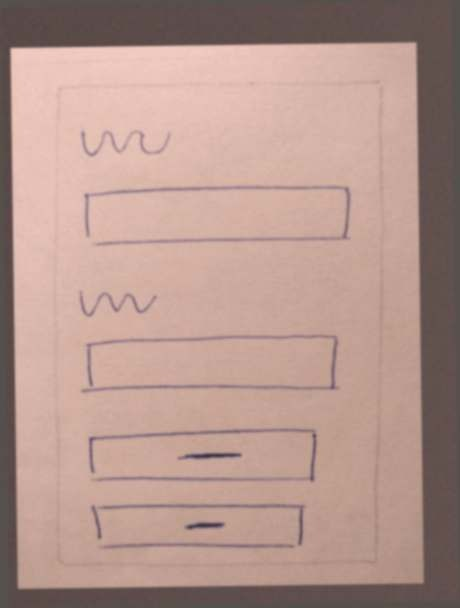button: (81, 424, 321, 489), (85, 495, 310, 560)
text: (74, 114, 182, 168), (74, 283, 167, 327)
text_input: (71, 175, 364, 255), (77, 332, 346, 400)
